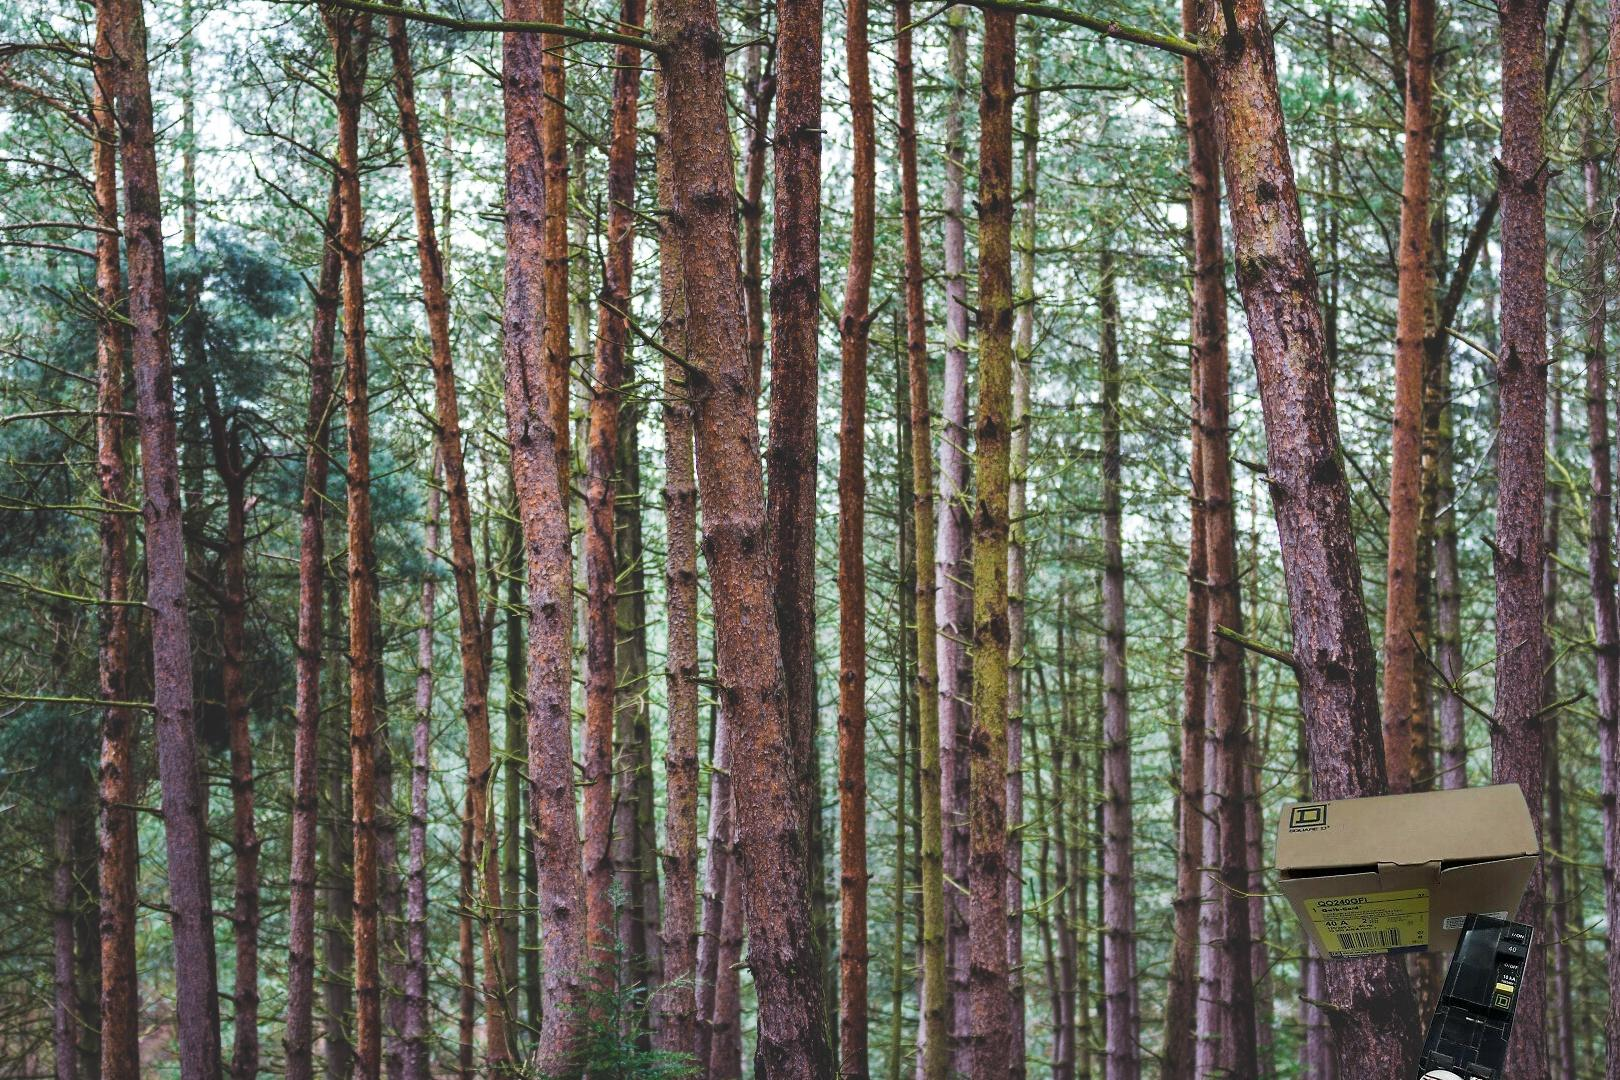trashbox-cardboard: (1273, 779, 1543, 1080)
